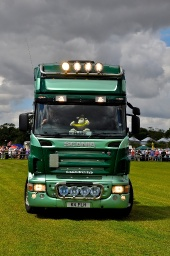truck: (23, 53, 141, 216)
